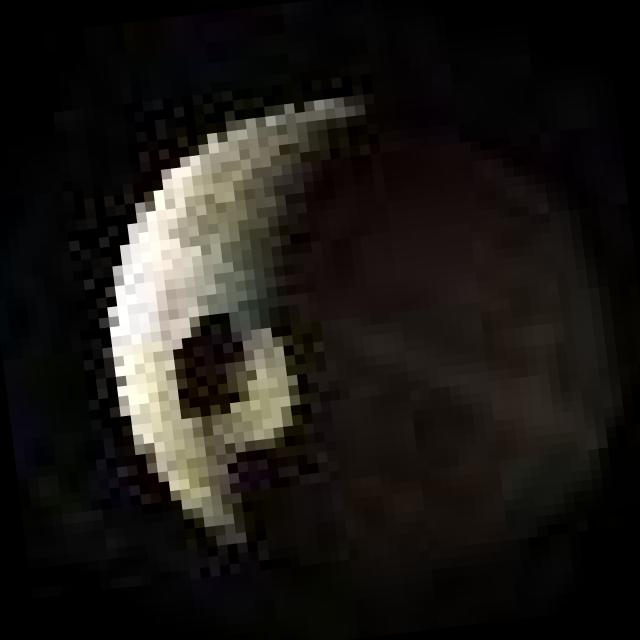Death Star: (64, 64, 632, 576)
